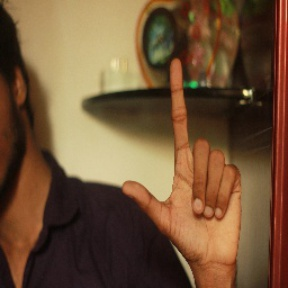L: (123, 55, 243, 253)
